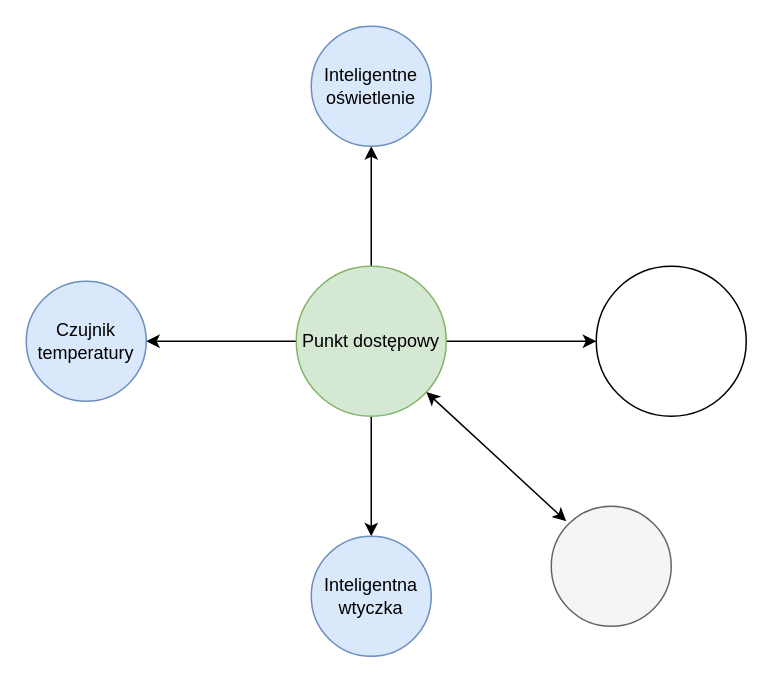
Image size: 773x683. Some labels were removed from this diagram. The box of each missing label's shape, as (x1, y1, x2, y2) in pixels:
Urządzenie bazowe: (595, 265, 746, 416)
Urządzenie mobilne: (550, 505, 671, 626)
